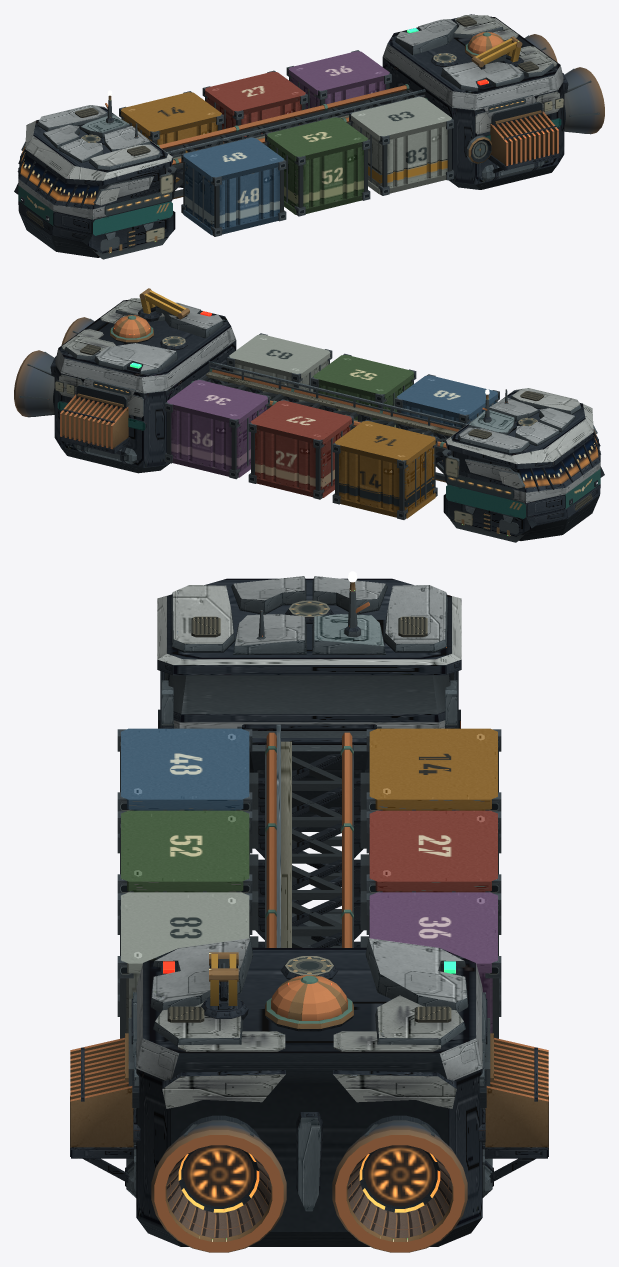
The model's file is drover.glb.
3 renders of one model, top to bottom at view 1: azimuth 30°, elevation 25°; view 2: azimuth 150°, elevation 25°; view 3: azimuth 270°, elevation 25°, orthographic. The views are drawn at different scales.
Visible parts, largest first — view 1: hull · plating, Intermodal ISO 8 · common pressed casting, Intermodal ISO 8 · common pressed casting.002, Intermodal ISO 8 · common pressed casting.004, Intermodal ISO 8 · common pressed casting.003, Intermodal ISO 8 · common pressed casting.005, Intermodal ISO 8 · common pressed casting.001, engine_port · plating, Intermodal ISO 8 · common door ironwork, Intermodal ISO 8 · common door ironwork.004, Intermodal ISO 8 · common door ironwork.002, crane · plating (+4 smaller); view 2: hull · plating, Intermodal ISO 8 · common pressed casting.001, Intermodal ISO 8 · common pressed casting.005, Intermodal ISO 8 · common pressed casting.003, Intermodal ISO 8 · common pressed casting.002, Intermodal ISO 8 · common pressed casting.004, Intermodal ISO 8 · common pressed casting, engine_starboard · plating, Intermodal ISO 8 · common door ironwork.001, crane · plating, shield_generator · plating, Intermodal ISO 8 · common door ironwork.005 (+2 smaller); view 3: hull · plating, engine_port · plating, engine_starboard · plating, Intermodal ISO 8 · common pressed casting, Intermodal ISO 8 · common pressed casting.001, Intermodal ISO 8 · common pressed casting.002, Intermodal ISO 8 · common pressed casting.003, Intermodal ISO 8 · common pressed casting.004, Intermodal ISO 8 · common pressed casting.005, shield_generator · plating, crane · plating, Intermodal ISO 8 · common door ironwork.004 (+1 smaller).
Part boxes in pixels (x1,y1,x2,y2): hull · plating: [14, 14, 568, 259]; Intermodal ISO 8 · common pressed casting: [183, 137, 284, 235]; Intermodal ISO 8 · common pressed casting.002: [267, 117, 368, 214]; Intermodal ISO 8 · common pressed casting.004: [351, 96, 451, 194]; Intermodal ISO 8 · common pressed casting.003: [205, 71, 305, 143]; Intermodal ISO 8 · common pressed casting.005: [288, 51, 389, 118]; Intermodal ISO 8 · common pressed casting.001: [121, 92, 221, 182]; engine_port · plating: [564, 67, 604, 134]; Intermodal ISO 8 · common door ironwork: [181, 136, 286, 236]; Intermodal ISO 8 · common door ironwork.004: [349, 95, 453, 195]; Intermodal ISO 8 · common door ironwork.002: [265, 116, 370, 216]; crane · plating: [471, 36, 523, 69]; hull · plating: [50, 298, 604, 542]; Intermodal ISO 8 · common pressed casting.001: [334, 421, 435, 518]; Intermodal ISO 8 · common pressed casting.005: [167, 380, 267, 477]; Intermodal ISO 8 · common pressed casting.003: [251, 400, 351, 497]; Intermodal ISO 8 · common pressed casting.002: [313, 355, 413, 427]; Intermodal ISO 8 · common pressed casting.004: [229, 334, 330, 405]; Intermodal ISO 8 · common pressed casting: [397, 375, 497, 466]; engine_starboard · plating: [14, 350, 54, 417]; Intermodal ISO 8 · common door ironwork.001: [332, 419, 437, 519]; crane · plating: [138, 288, 189, 321]; shield_generator · plating: [110, 315, 153, 343]; Intermodal ISO 8 · common door ironwork.005: [165, 378, 269, 479]; hull · plating: [70, 576, 548, 1246]; engine_port · plating: [151, 1115, 286, 1252]; engine_starboard · plating: [332, 1115, 467, 1252]; Intermodal ISO 8 · common pressed casting: [121, 728, 249, 810]; Intermodal ISO 8 · common pressed casting.001: [369, 728, 497, 810]; Intermodal ISO 8 · common pressed casting.002: [121, 810, 249, 892]; Intermodal ISO 8 · common pressed casting.003: [369, 810, 497, 892]; Intermodal ISO 8 · common pressed casting.004: [121, 892, 249, 1033]; Intermodal ISO 8 · common pressed casting.005: [369, 892, 497, 1033]; shield_generator · plating: [265, 975, 353, 1031]; crane · plating: [201, 952, 248, 1019]; Intermodal ISO 8 · common door ironwork.004: [117, 893, 252, 1038].
Size of the model in its own units: 2 by 0.5039 by 0.7807.
Materials: 2 (2 with a texture image).
